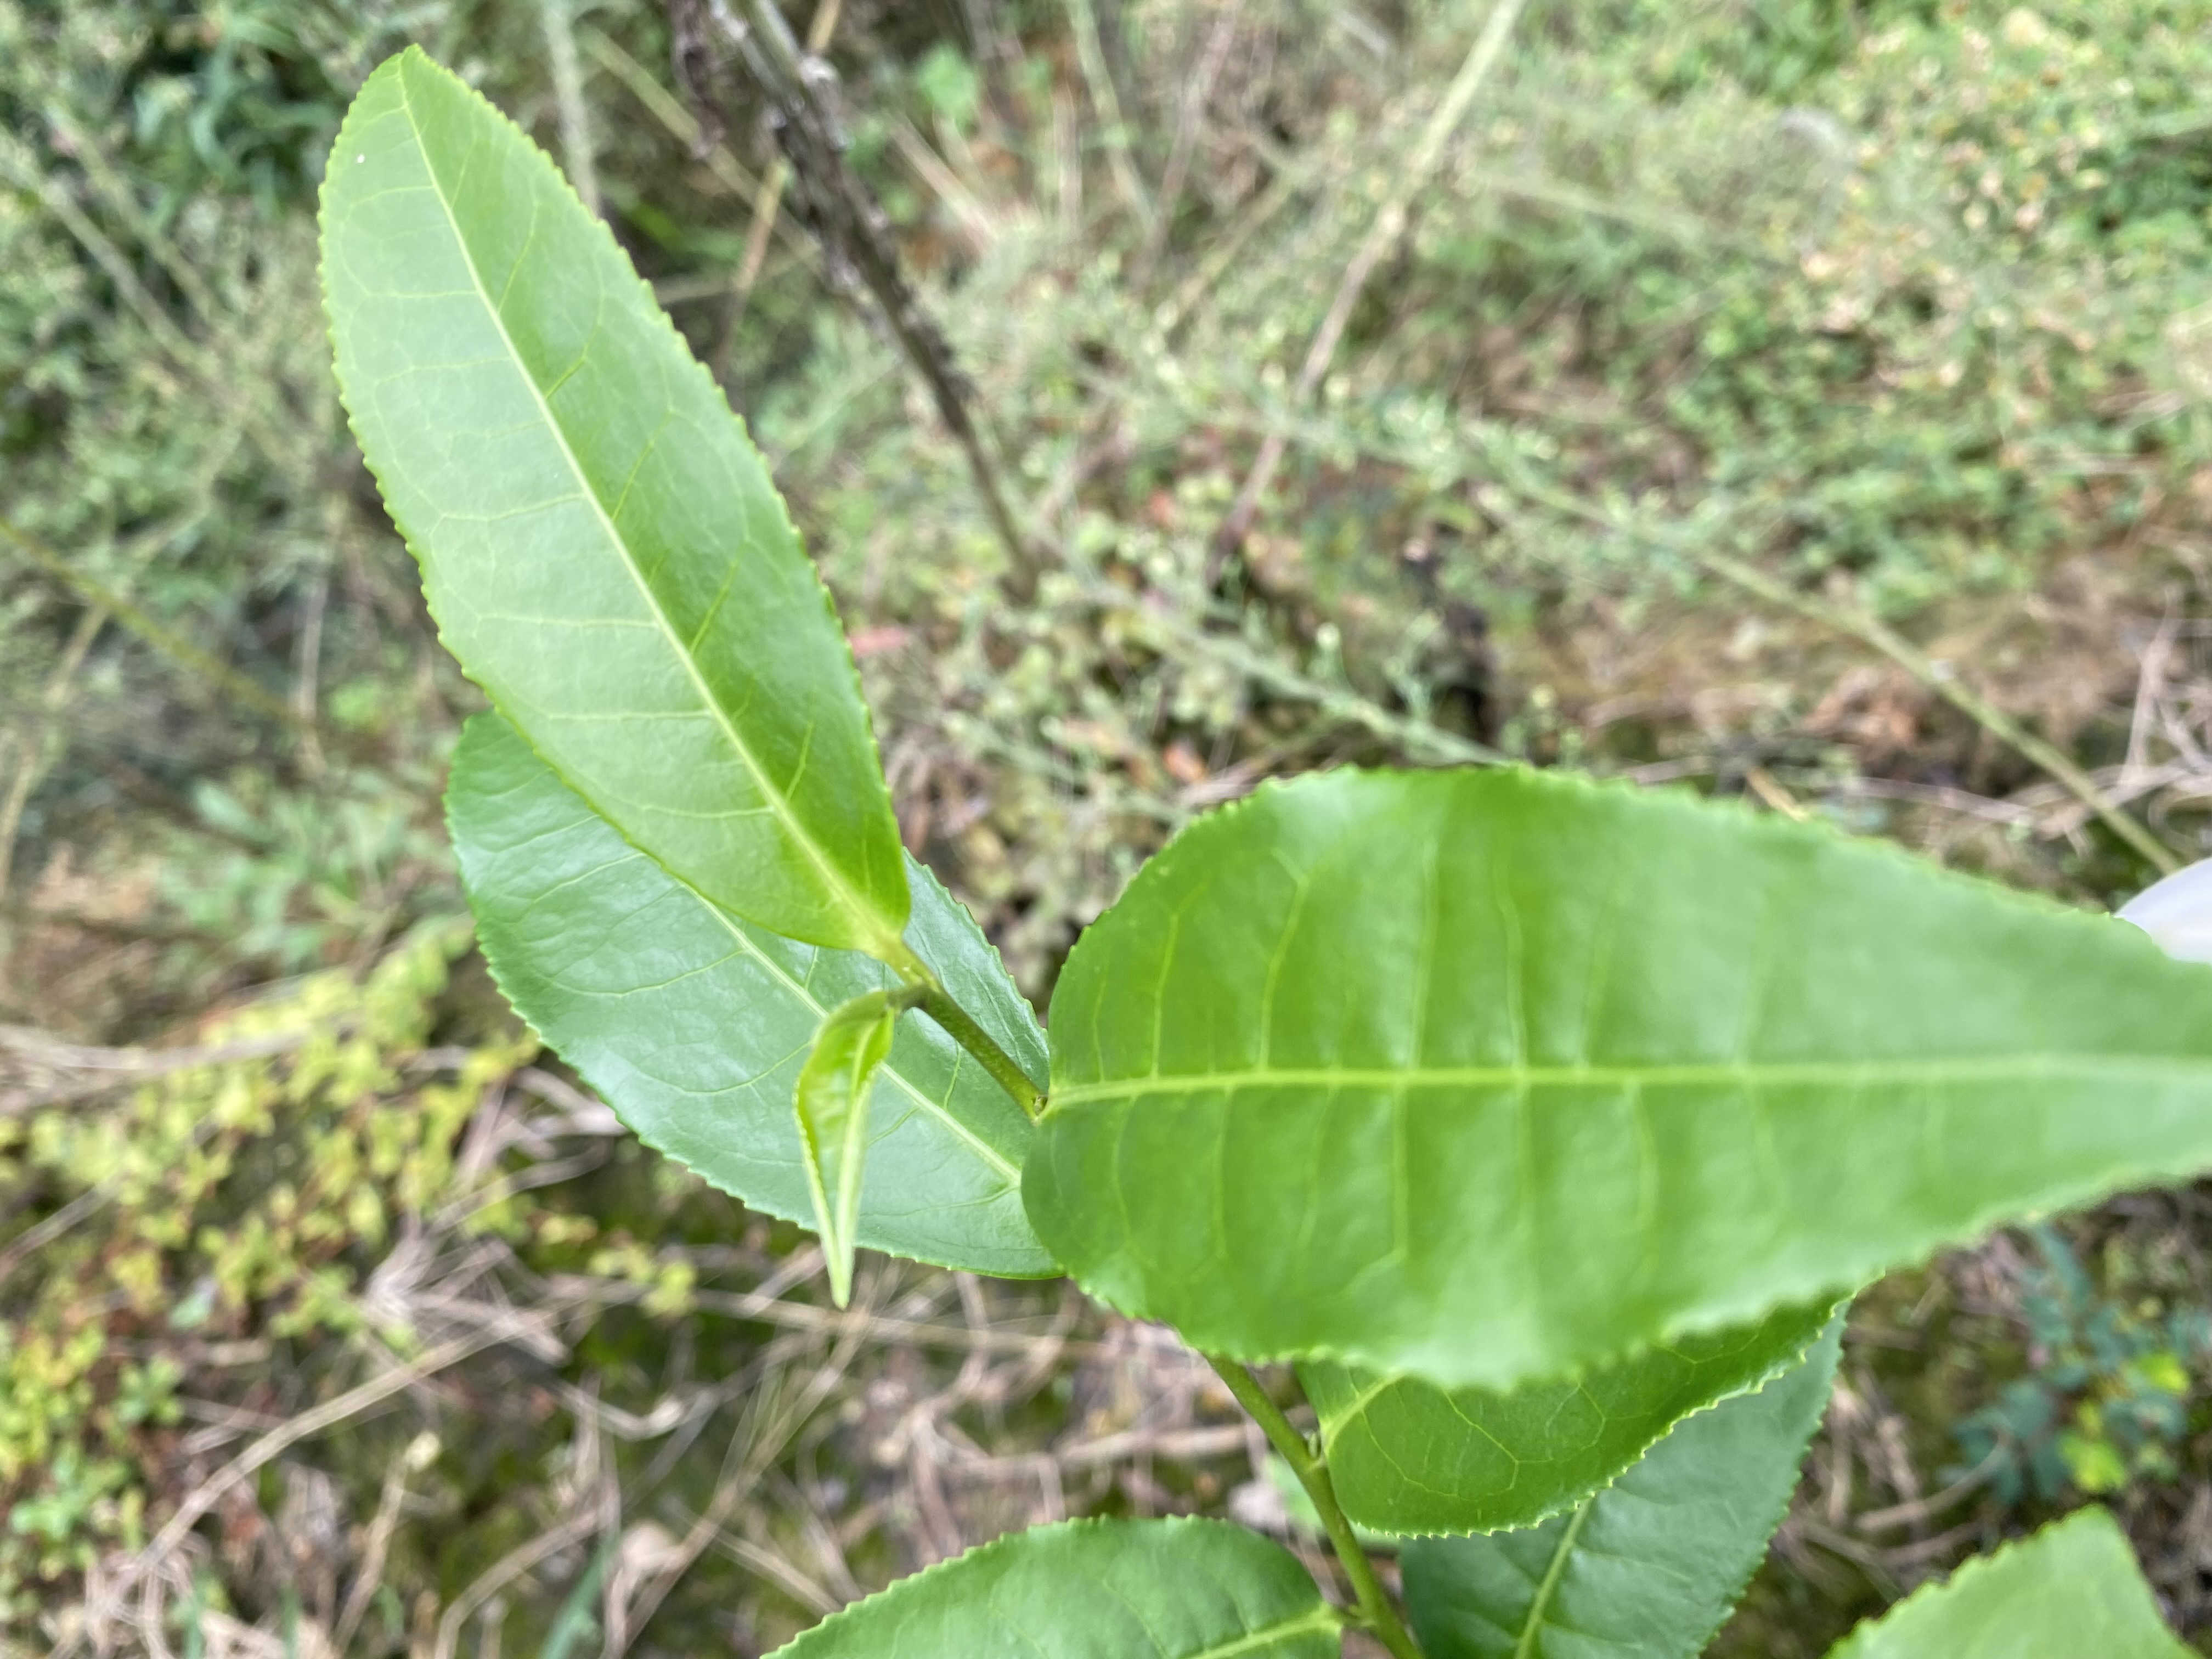healthy: (1021, 760, 2212, 1394), (312, 40, 914, 957), (439, 708, 1059, 1283)
